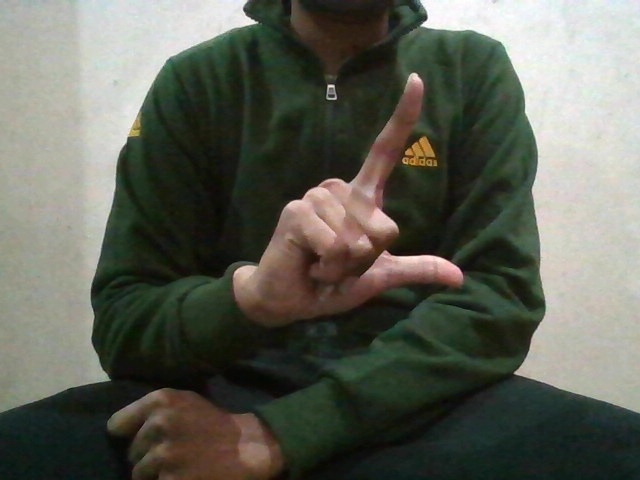L: (249, 65, 485, 316)
